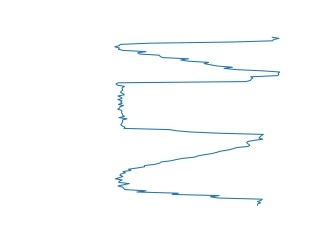distributaryChannelFill: (114, 77, 266, 142)
mouthBar: (114, 34, 280, 76)
underwaterDistributaryChannel: (112, 138, 266, 206)
